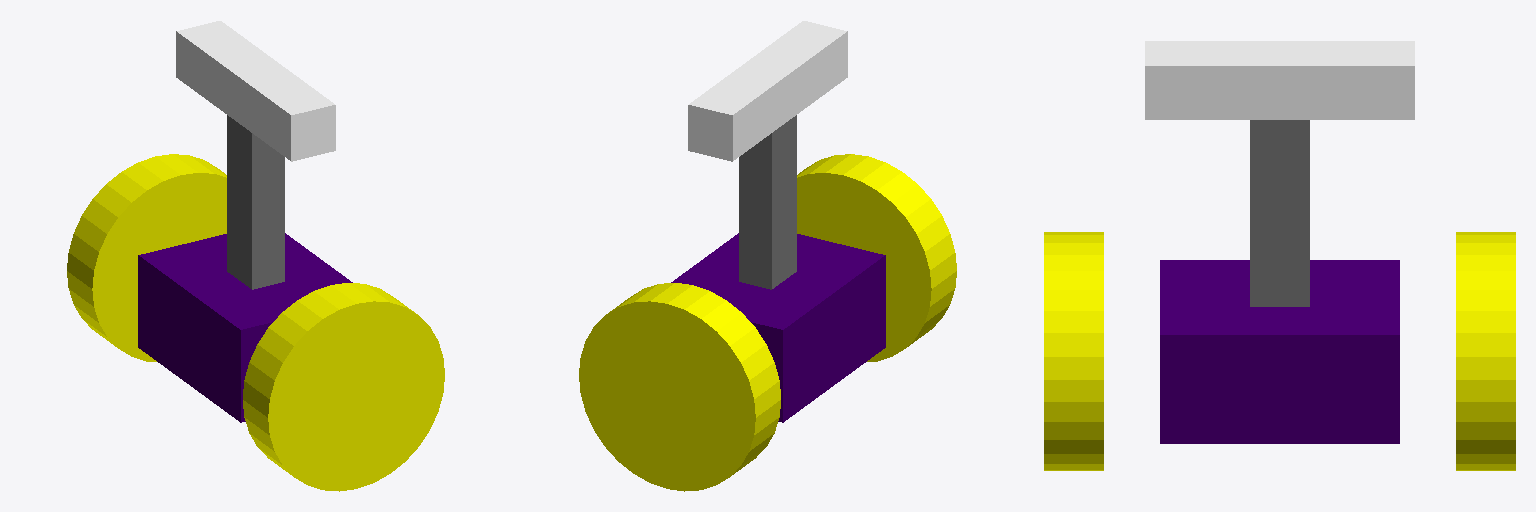
The robot description file, URDF, robot "smurf":
<?xml version="1.0"?>
<robot name="smurf" xmlns:xacro="http://ros.org/wiki/xacro">

  <material name="blue">
    <color rgba="0.0 0.0 0.8 1.0"/>
  </material>
  <material name="grey">
    <color rgba="0.5 0.5 0.5 1.0"/>
  </material>
  <material name="red">
    <color rgba="0.8 0.0 0.0 1.0"/>
  </material>
  <material name="indigo">
    <color rgba="0.33 0.0 0.5 1.0"/>
  </material>
  <material name="yellow">
    <color rgba="1.0 1.0 0.0 1.0"/>
  </material>
  <material name="white">
    <color rgba="1.0 1.0 1.0 1.0"/>
  </material>
  <material name="black">
    <color rgba="0.01 0.01 0.01 0.9"/>
  </material>

  <link name="base_footprint"/>

  <joint name="base_joint" type="fixed">
    <parent link="base_footprint"/>
    <child link="base_link"/>
    <origin xyz="0.0 0.0 0.08" rpy="0 0 0"/>
  </joint>

  <link name="base_link">
    <visual>
      <origin xyz="0 0 0" rpy="0 0 0"/>
      <geometry>
        <box size="0.12 0.16 0.08"/>
      </geometry>
      <material name="indigo"/>
    </visual>
  </link>

  <joint name="tail_joint" type="fixed">
    <parent link="base_link"/>
    <child link="tail_link"/>
    <origin xyz="0.0 0.0 0.04" rpy="0 0 0"/>
  </joint>

  <link name="tail_link">
    <visual>
      <origin xyz="0 0 0.07" rpy="0 0 0"/>
      <geometry>
        <box size="0.03 0.04 0.14"/>
      </geometry>
      <material name="grey"/>
    </visual>
    <visual>
      <origin xyz="0 0 0.16" rpy="0 0 0"/>
      <geometry>
        <box size="0.04 0.18 0.04"/>
      </geometry>
      <material name="white"/>
    </visual>
  </link>

  <joint name="wheel_left_joint" type="continuous">
    <parent link="base_link"/>
    <child link="wheel_left_link"/>
    <origin xyz="0.0 0.1375 0.0" rpy="0 0 0"/>
    <axis xyz="0 1 0"/>
  </joint>
  <link name="wheel_left_link">
    <visual>
      <origin xyz="0 0 0" rpy="1.57079632679 0 0"/>
      <geometry>
        <cylinder radius="0.08" length="0.04"/>
      </geometry>
      <material name="yellow"/>
    </visual>
  </link>

  <joint name="wheel_right_joint" type="continuous">
    <parent link="base_link"/>
    <child link="wheel_right_link"/>
    <origin xyz="0.0 -0.1375 0.0" rpy="0 0 0"/>
    <axis xyz="0 1 0"/>
  </joint>
  <link name="wheel_right_link">
    <visual>
      <origin xyz="0 0 0" rpy="1.57079632679 0 0"/>
      <geometry>
        <cylinder radius="0.08" length="0.04"/>
      </geometry>
      <material name="yellow"/>
    </visual>
  </link>

</robot>

--- Facts derived from the render (not from the file) ---
Views: 3 orthographic renders of the robot side by side, from view 1: azimuth 30°, elevation 25°; view 2: azimuth 150°, elevation 25°; view 3: azimuth 270°, elevation 25°.
Robot: smurf — 5 links, 4 joints (2 continuous, 2 fixed); root link base_footprint; default pose: all joints at 0.
Links seen in each view (by area): view 1: wheel_right_link, tail_link, base_link, wheel_left_link; view 2: wheel_left_link, tail_link, base_link, wheel_right_link; view 3: base_link, tail_link, wheel_left_link, wheel_right_link.
Link boxes in pixels (x1,y1,x2,y2): wheel_right_link: [243, 283, 444, 491]; tail_link: [176, 21, 335, 289]; base_link: [138, 233, 352, 422]; wheel_left_link: [67, 154, 226, 361]; wheel_left_link: [579, 283, 780, 491]; tail_link: [688, 21, 847, 289]; base_link: [671, 233, 885, 422]; wheel_right_link: [797, 154, 956, 361]; base_link: [1160, 260, 1399, 443]; tail_link: [1145, 41, 1414, 306]; wheel_left_link: [1456, 232, 1515, 470]; wheel_right_link: [1044, 232, 1103, 470].
Size in the robot's own frame: 0.16 by 0.315 by 0.3 metres.
Geometry: primitives only (box / cylinder / sphere), no mesh files.
